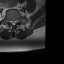CCS_stenosis: (12, 19, 14, 27)
LFS_normal: (16, 17, 18, 24)
LLS_normal: (14, 19, 16, 26)
RFS_normal: (8, 17, 10, 24)
RLS_normal: (10, 19, 12, 25)
